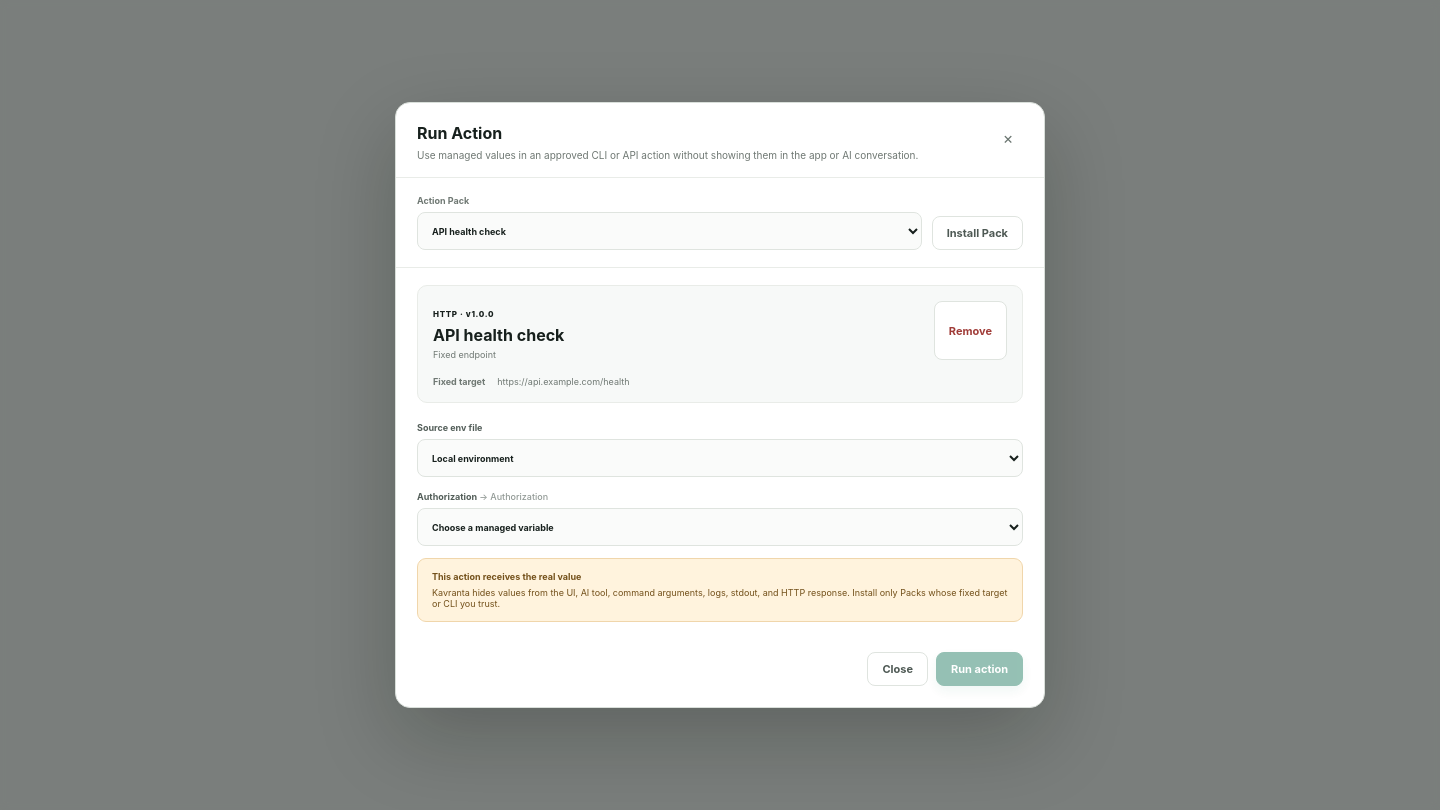
Scenario: ActionPackModal › maps variable names only and renders only allowlisted result metadata
Select "GPT_API_KEY" in the dropdown labelled "Authorization → Authorization" at (720, 527), box [417,508,1023,546]
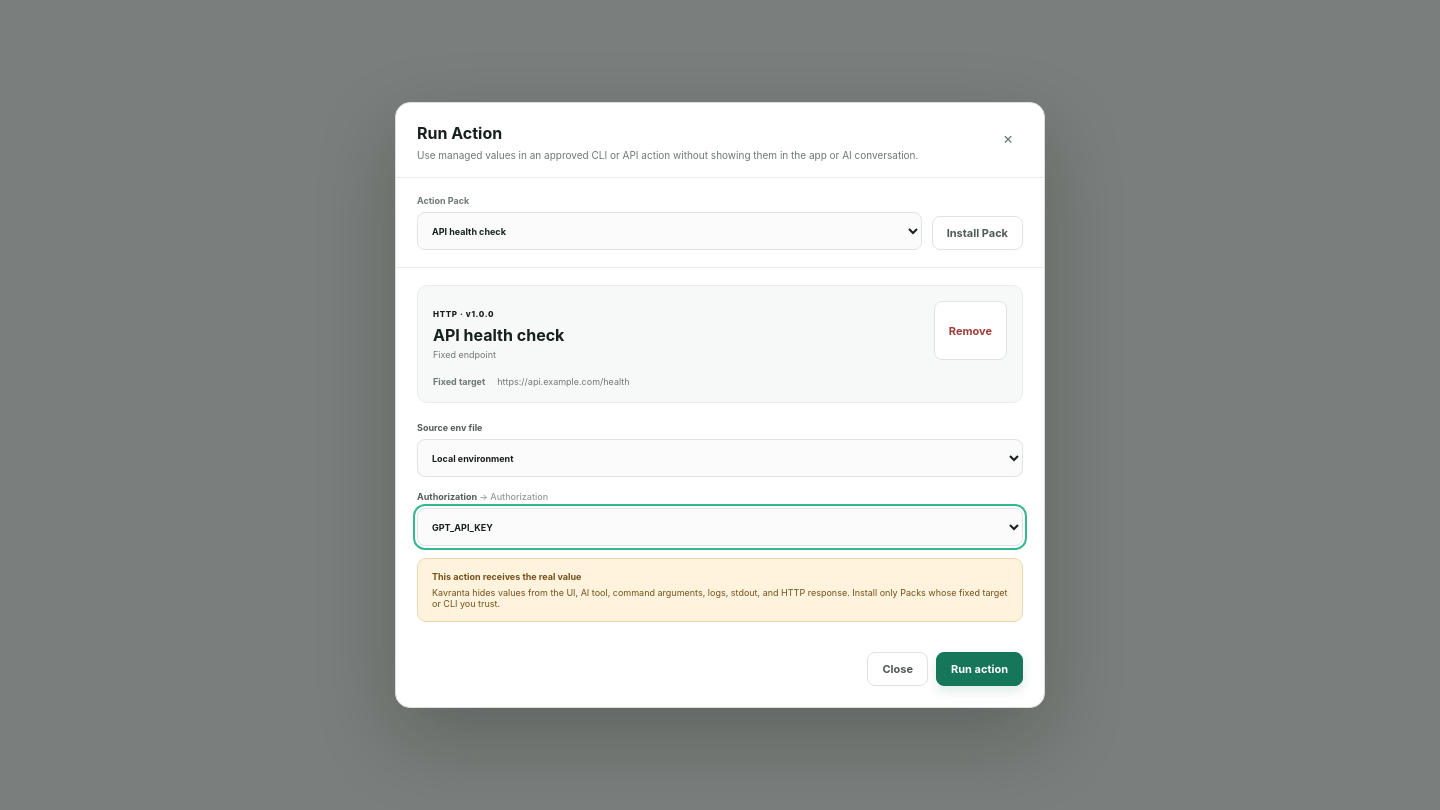
Click the button "Run action" at (980, 669), box [936,652,1023,686]
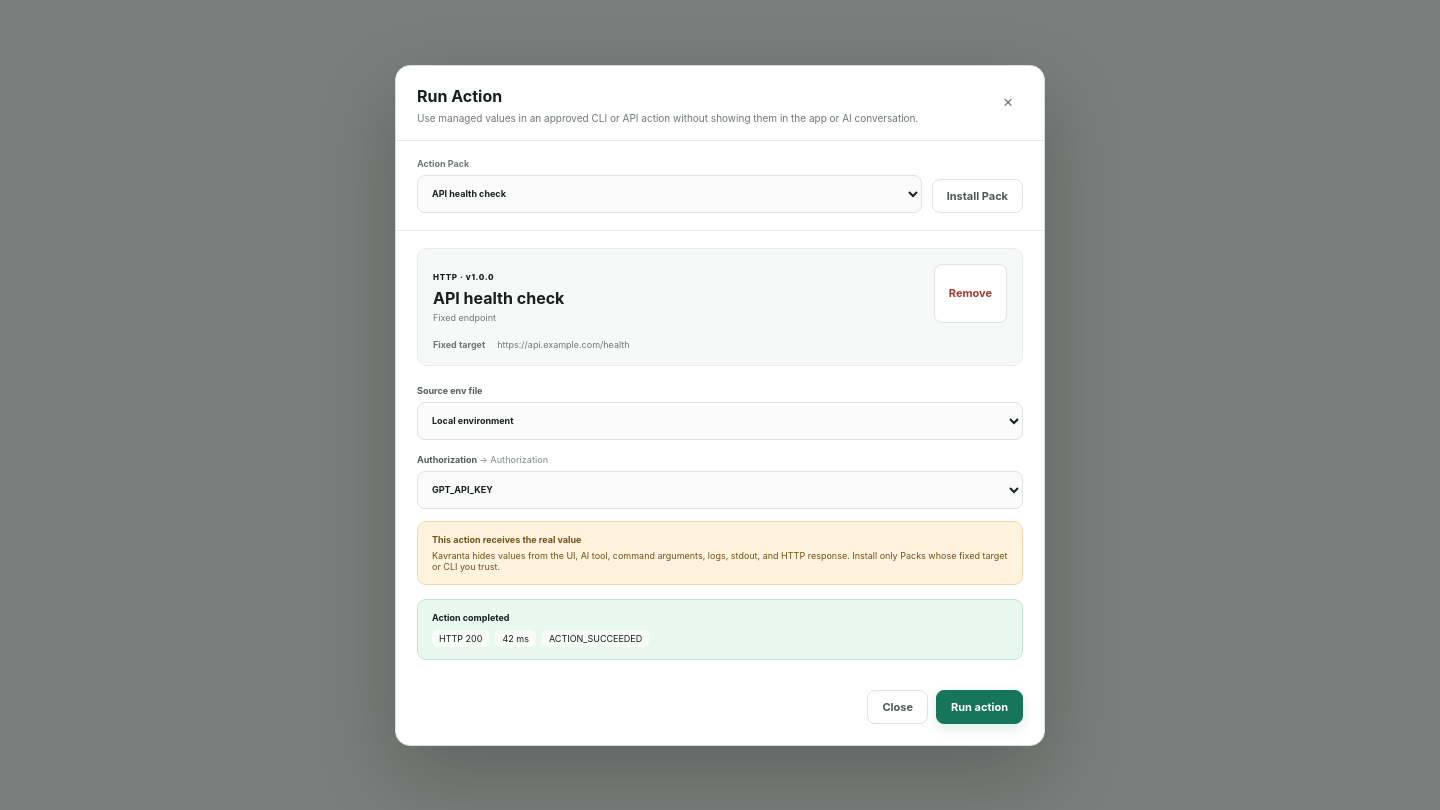
Expected: the text "HTTP 200" is shown, [432,630,490,646]
Expected: the text "42 ms" is shown, [496,630,536,646]
